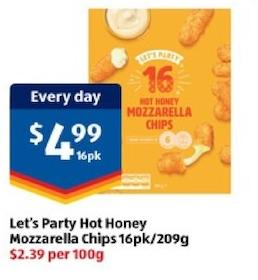description_block: (5, 212, 201, 249)
price_main: (8, 105, 124, 200)
product_image_block: (84, 6, 235, 200)
promo_text_block: (5, 79, 127, 109)
unit_price_block: (4, 247, 117, 269)
